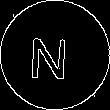N_N: (33, 29, 77, 81)
